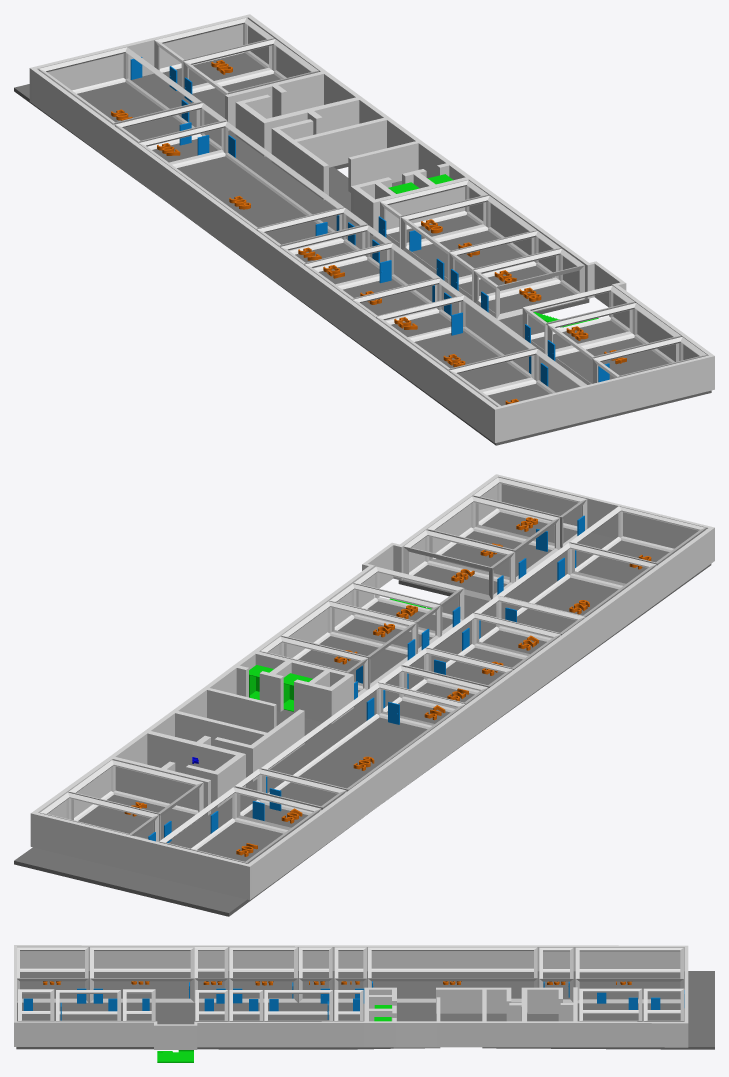
3 views of the same model, one above another, from view 1: azimuth 30°, elevation 25°; view 2: azimuth 150°, elevation 25°; view 3: azimuth 270°, elevation 25° (orthographic). The views are drawn at different scales.
Visible parts, largest first — view 1: Wall.005, Floor.005, B102.053, B102.057, B102.065, B102.056, B102.062, B102.058, B102.066, B102.067, B102.063, B102.052 (+8 smaller); view 2: Wall.005, Floor.005, B102.053, B102.058, B102.066, B102.057, B102.063, B102.056, B102.062, B102.060, B102.064, B102.052 (+8 smaller); view 3: Wall.005, Floor.005, B102.053, B102.062, B102.056, B102.064, B102.068, B102.063, B102.057, B102.058, B102.055, B102.054 (+9 smaller).
Part boxes in pixels (x1=…): Wall.005: x1=29, y1=14, x2=714, y2=443; Floor.005: x1=14, y1=52, x2=711, y2=445; B102.053: x1=138, y1=121, x2=344, y2=250; B102.057: x1=401, y1=195, x2=537, y2=283; B102.065: x1=473, y1=248, x2=584, y2=319; B102.056: x1=376, y1=295, x2=536, y2=391; B102.062: x1=38, y1=47, x2=201, y2=127; B102.058: x1=547, y1=303, x2=681, y2=384; B102.066: x1=522, y1=285, x2=634, y2=355; B102.067: x1=154, y1=18, x2=274, y2=88; B102.063: x1=183, y1=39, x2=318, y2=103; B102.052: x1=449, y1=231, x2=561, y2=301; Wall.005: x1=30, y1=474, x2=714, y2=900; Floor.005: x1=14, y1=512, x2=711, y2=916; B102.053: x1=260, y1=683, x2=465, y2=793; B102.058: x1=427, y1=496, x2=559, y2=581; B102.066: x1=403, y1=530, x2=514, y2=600; B102.057: x1=281, y1=601, x2=416, y2=688; B102.063: x1=68, y1=760, x2=203, y2=840; B102.056: x1=496, y1=543, x2=656, y2=638; B102.062: x1=159, y1=787, x2=321, y2=863; B102.060: x1=473, y1=477, x2=587, y2=548; B102.064: x1=569, y1=506, x2=706, y2=585; B102.052: x1=329, y1=583, x2=440, y2=653; Wall.005: x1=14, y1=945, x2=688, y2=1049; Floor.005: x1=16, y1=971, x2=714, y2=1049; B102.053: x1=368, y1=947, x2=537, y2=1002; B102.062: x1=575, y1=947, x2=683, y2=1003; B102.056: x1=90, y1=947, x2=194, y2=1002; B102.064: x1=17, y1=947, x2=88, y2=1002; B102.068: x1=229, y1=947, x2=297, y2=1002; B102.063: x1=579, y1=988, x2=642, y2=1021; B102.057: x1=264, y1=990, x2=332, y2=1021; B102.058: x1=56, y1=990, x2=120, y2=1021; B102.055: x1=299, y1=947, x2=332, y2=1002; B102.054: x1=334, y1=947, x2=366, y2=1002.
Size of the model in its own units: 0.9946 by 0.2962 by 3.66.
